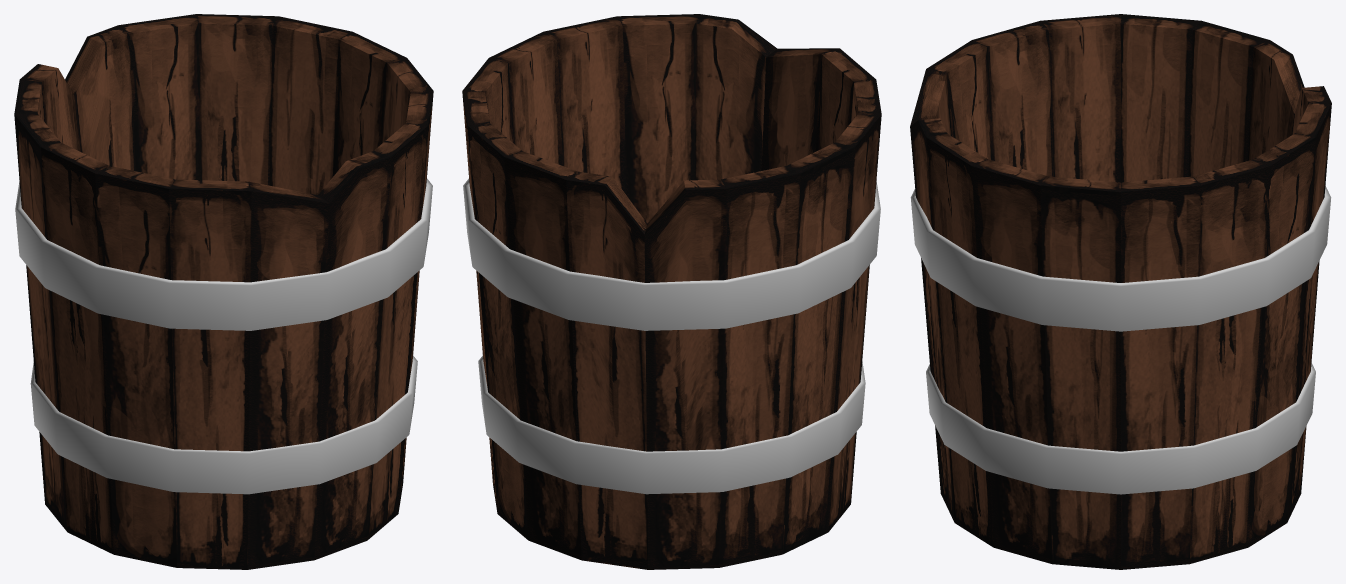
The model's file is BucketWood.fbx.
3 renders of one model, left to right at view 1: azimuth 30°, elevation 25°; view 2: azimuth 150°, elevation 25°; view 3: azimuth 270°, elevation 25°, orthographic.
Visible parts, largest first — view 1: BucketWood; view 2: BucketWood; view 3: BucketWood.
Boxes of the visible parts, left/top/right/bottom form: BucketWood: left=14, top=14, right=433, bottom=569; BucketWood: left=462, top=14, right=881, bottom=569; BucketWood: left=910, top=14, right=1331, bottom=569.
Bounding box in the file's own units: 0.6917 × 0.7067 × 0.6917.
